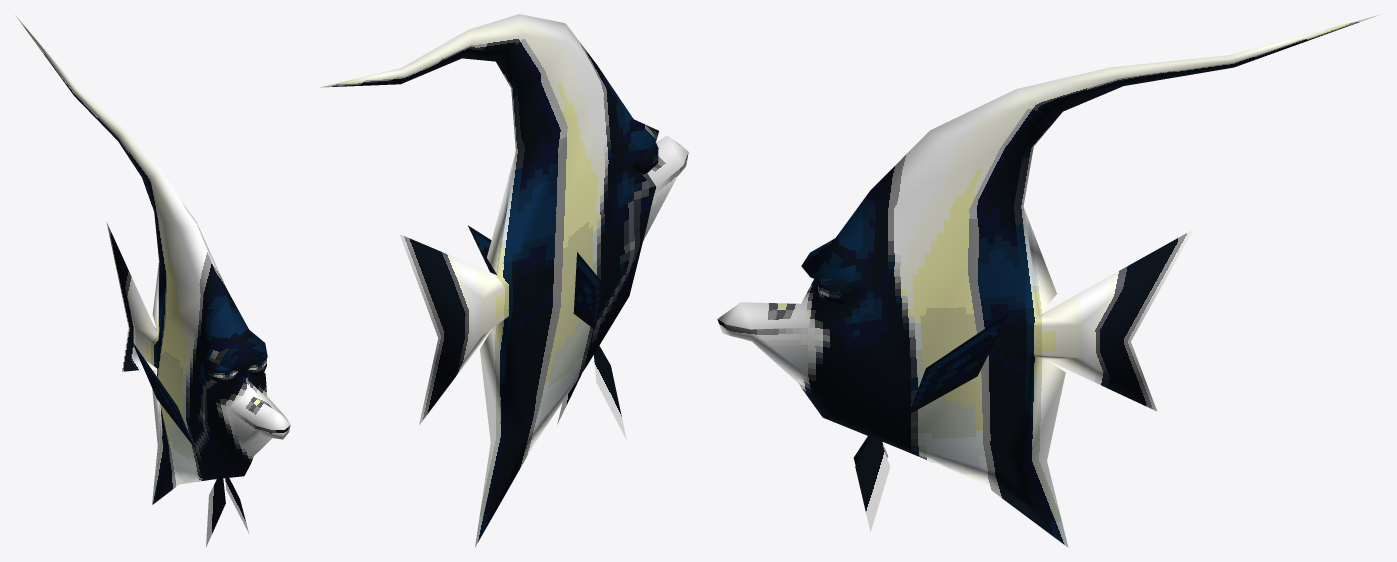
The model's file is Gil.obj.
The picture shows the model from 3 angles, left to right: view 1: azimuth 30°, elevation 25°; view 2: azimuth 150°, elevation 25°; view 3: azimuth 270°, elevation 25°; orthographic projection. The views are drawn at different scales.
Parts seen in each view (by area): view 1: Gill:Mesh; view 2: Gill:Mesh; view 3: Gill:Mesh.
Part boxes in pixels (x1,y1,x2,y2): Gill:Mesh: (16,16,290,547); Gill:Mesh: (320,14,688,547); Gill:Mesh: (717,14,1380,547).
Size of the model in its own units: 0.3022 by 1.6 by 1.84.
1 material, 1 textured.
